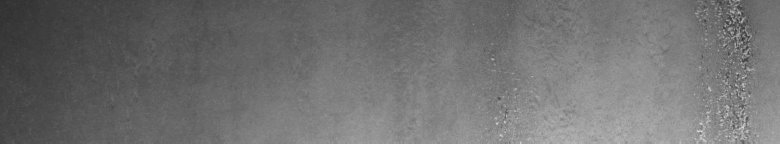hc: (695, 4, 762, 136)
